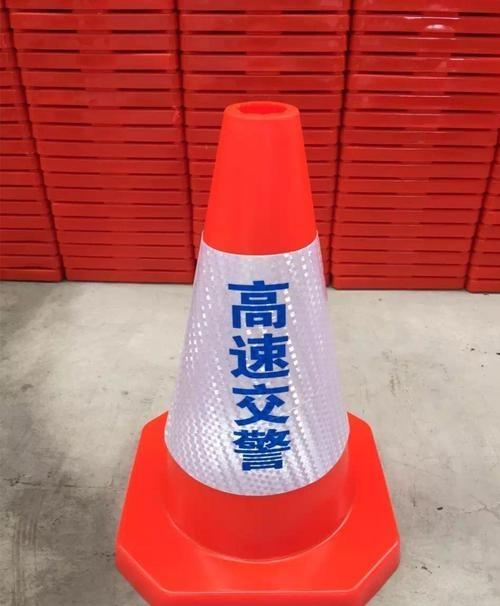cone_barrel: (123, 102, 391, 598)
